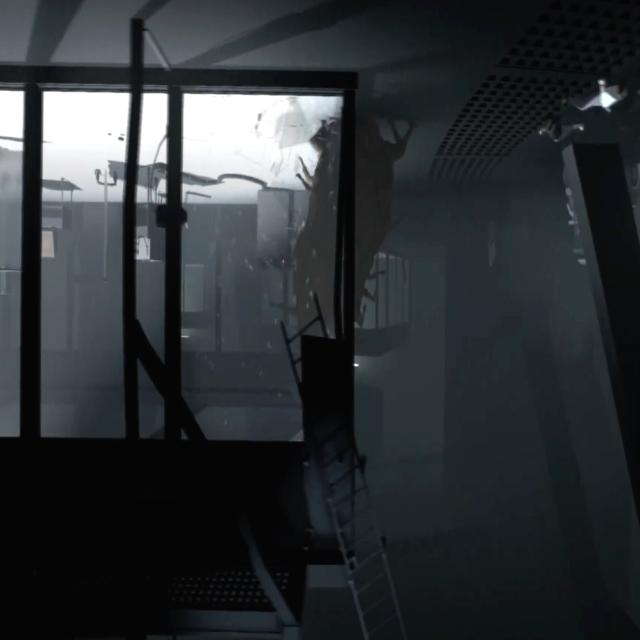blob: (292, 117, 418, 337)
human: (488, 219, 497, 270)
